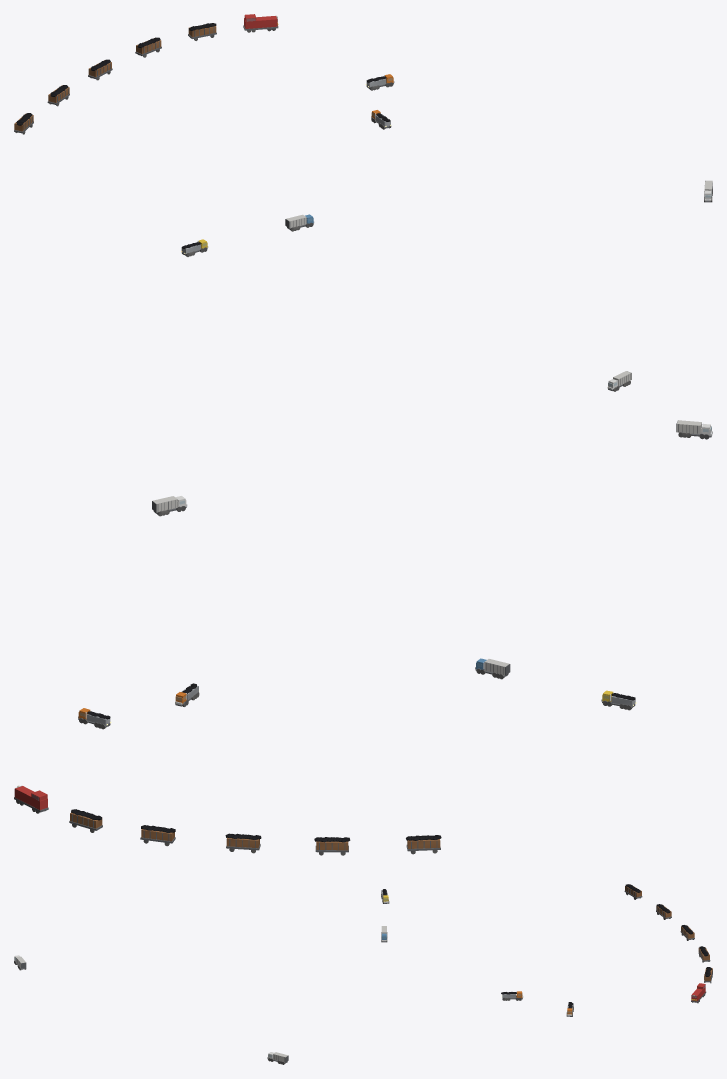
File: Vehicles_P1.fbx
3 views of the same model, one above another, from view 1: azimuth 30°, elevation 25°; view 2: azimuth 150°, elevation 25°; view 3: azimuth 270°, elevation 25° (orthographic). The views are drawn at different scales.
Size of the model in its own units: 15551 by 543 by 26825.
